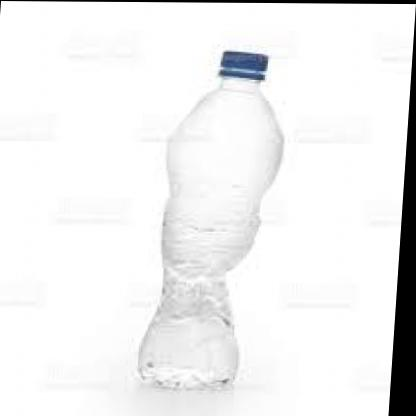Plastic: (126, 32, 300, 393)
